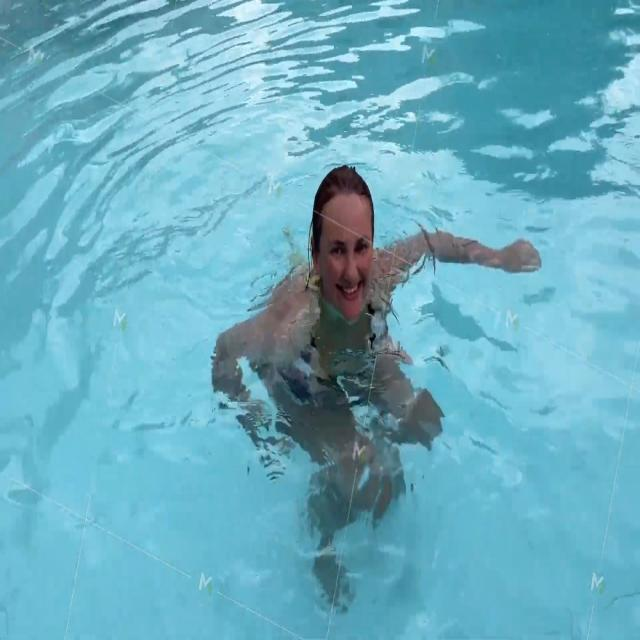Swimming: (205, 161, 552, 418)
